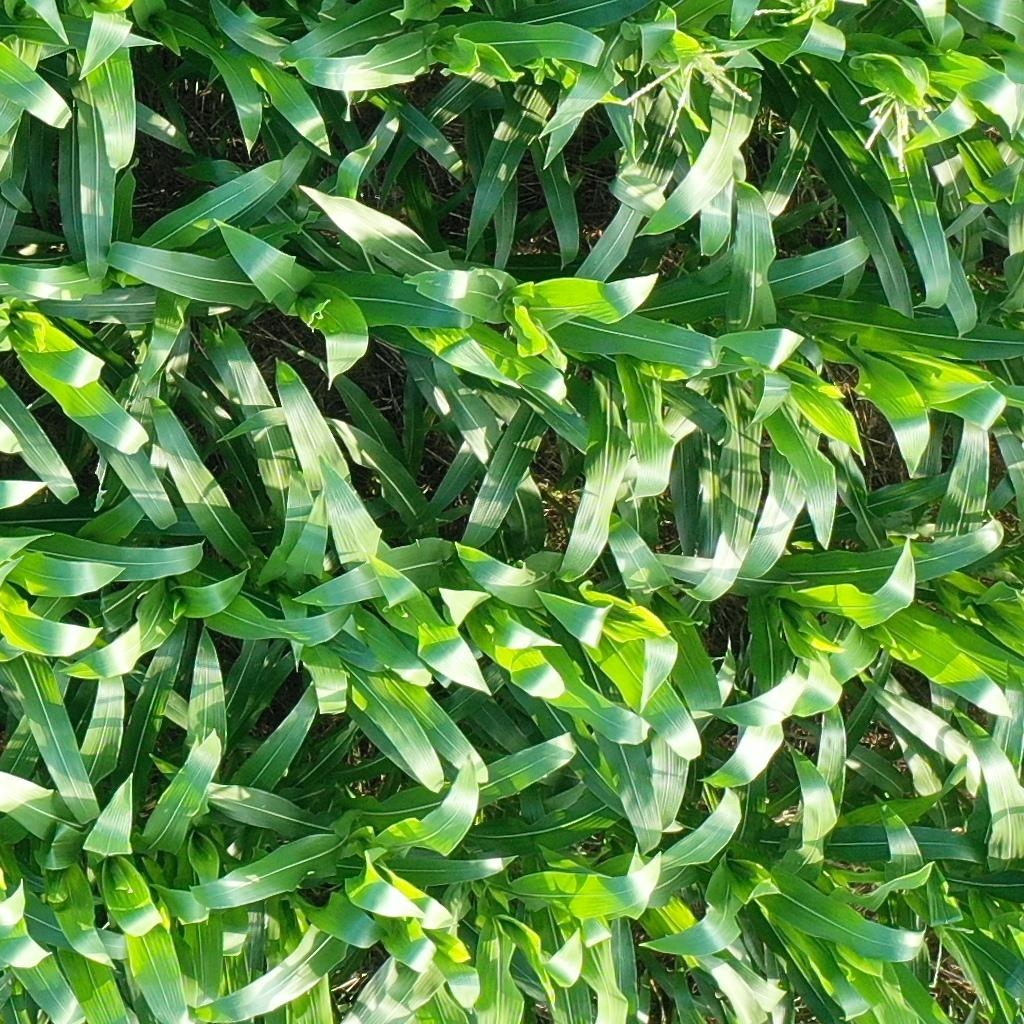Tassel: (625, 41, 751, 126), (858, 79, 943, 172), (748, 1, 838, 29)
